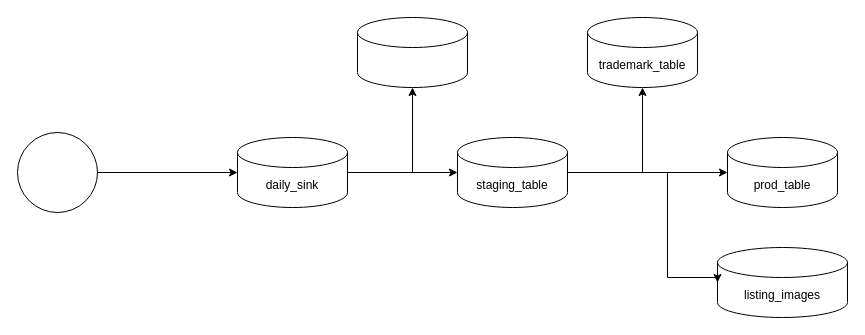
This 865x335 diagram has some shape labels left out. The centre of each missing label's shape, as x and y in pixels:
.parquet file in ADLS: the point at 57,172
recent_listings: the point at 412,52
